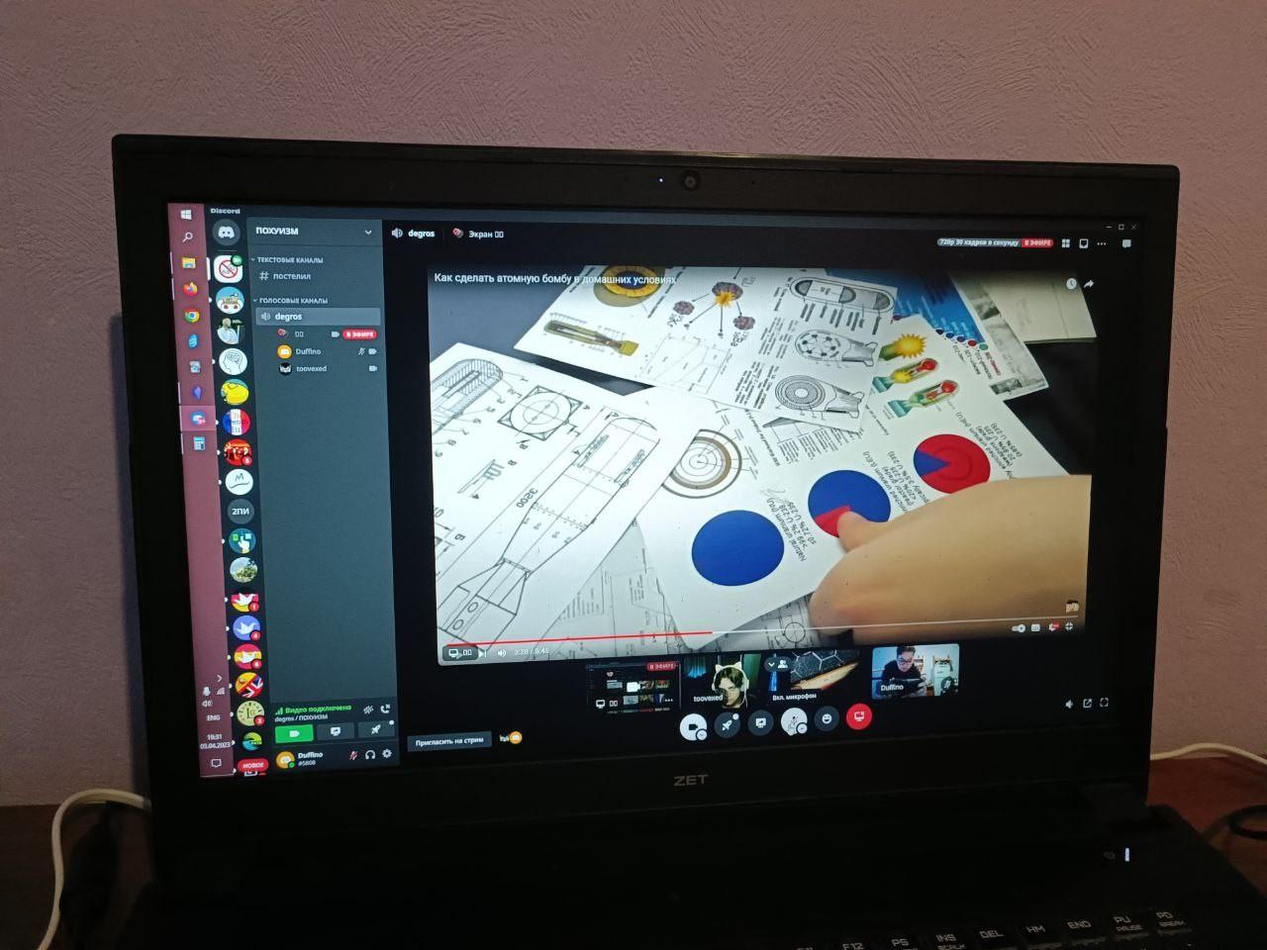monitor: (99, 120, 1186, 848)
